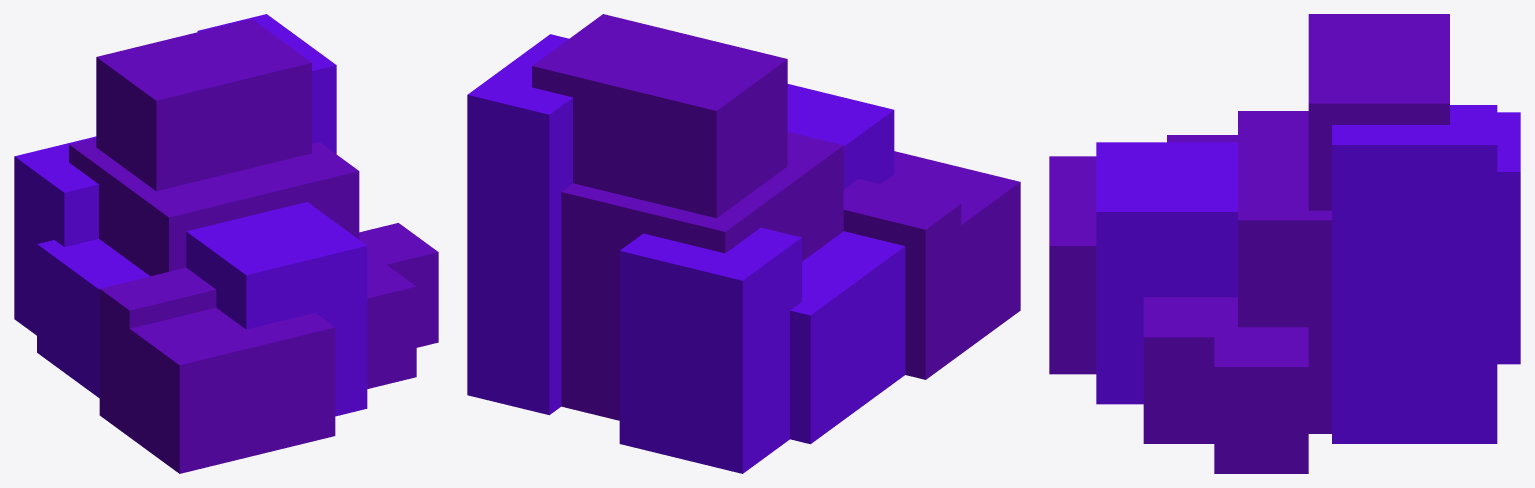
The model's file is Rock3.dae.
The picture shows the model from 3 angles, left to right: view 1: azimuth 30°, elevation 25°; view 2: azimuth 150°, elevation 25°; view 3: azimuth 270°, elevation 25°; orthographic projection. The views are drawn at different scales.
Parts seen in each view (by area): view 1: Rock3; view 2: Rock3; view 3: Rock3.
Boxes of the visible parts, bbox=[...] form: Rock3: bbox=[14, 14, 438, 473]; Rock3: bbox=[467, 14, 1020, 473]; Rock3: bbox=[1049, 14, 1520, 473].
Bounding box in the file's own units: 1.9 × 1.5 × 2.
1 material, 1 textured.
